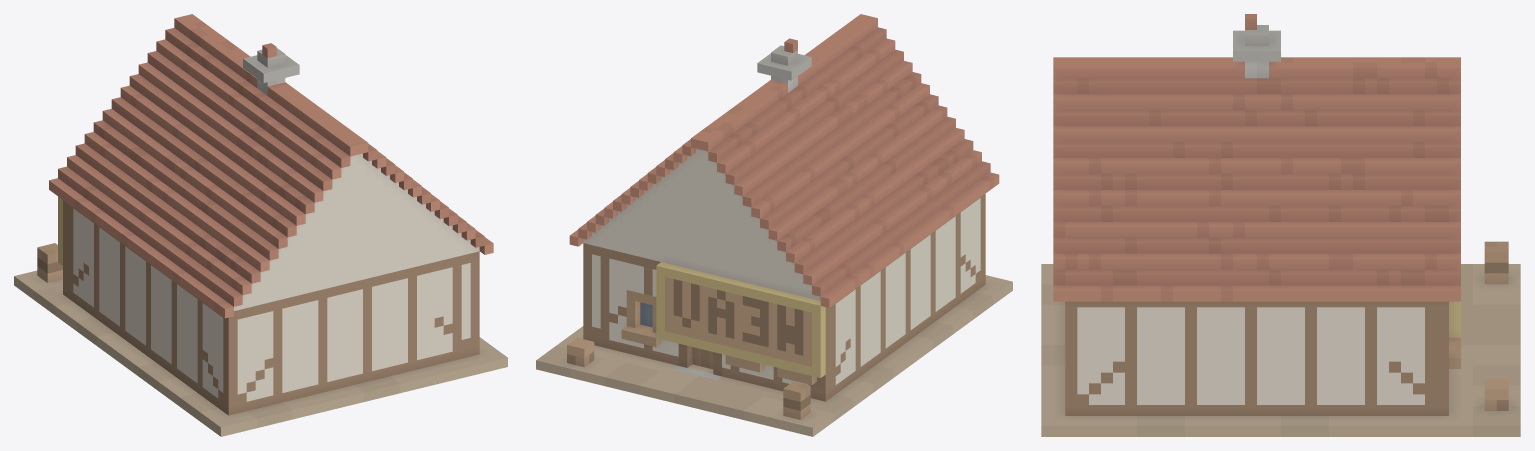
The model's file is weaver_linen.glb.
3 views of the same model, side by side, from view 1: azimuth 30°, elevation 25°; view 2: azimuth 150°, elevation 25°; view 3: azimuth 270°, elevation 25° (orthographic). The views are drawn at different scales.
Visible parts, largest first — view 1: weaver_linen; view 2: weaver_linen; view 3: weaver_linen.
Boxes of the visible parts, x1,y1,x2,y2 form: weaver_linen: (14, 14, 507, 436); weaver_linen: (536, 14, 1012, 436); weaver_linen: (1041, 14, 1520, 436).
Bounding box in the file's own units: 4 × 3.88 × 5.
